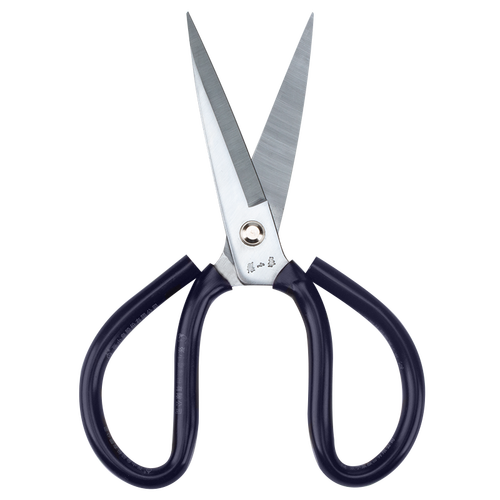scissor: (76, 6, 427, 489)
